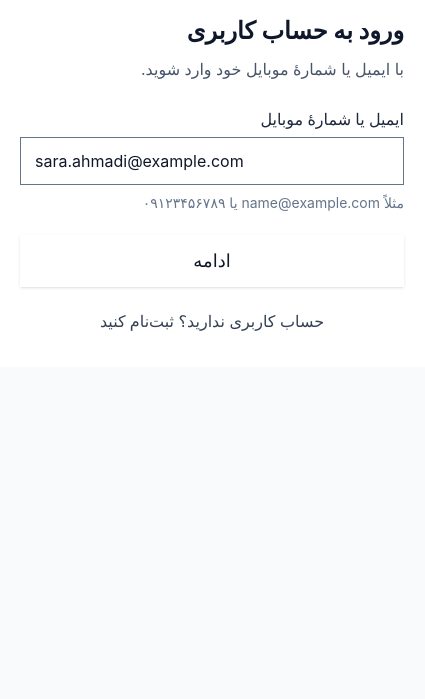
the one-time code step › a 503 auth_otp_send_failed shows its detail and lets the visitor try again at once
Click the button "ادامه" at coordinates (212, 261), box [20,235,404,287]
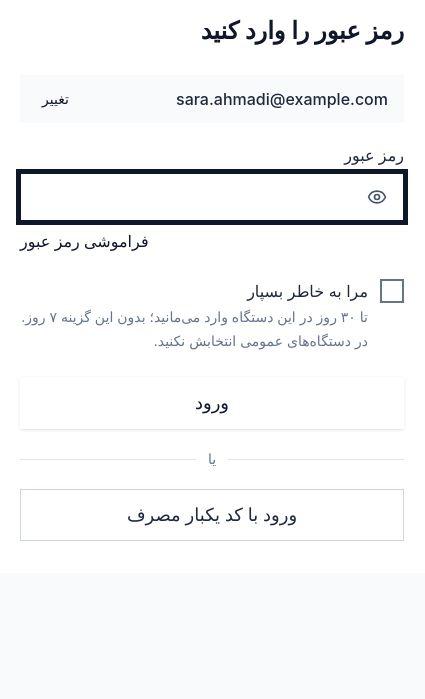
Click the button "ورود با کد یکبار مصرف" at coordinates (212, 515), box [20,489,404,541]
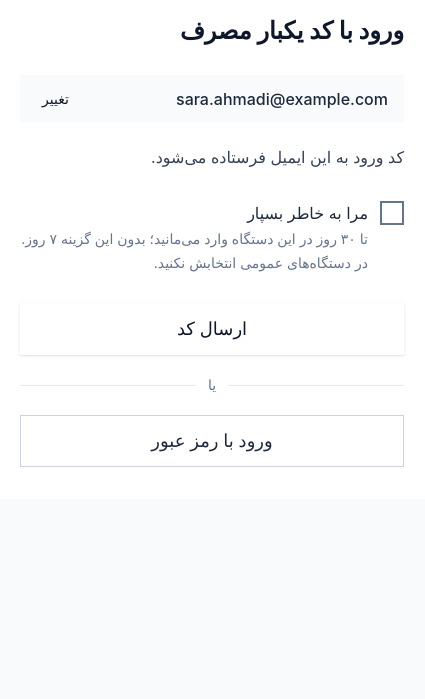
Result: the heading "ورود با کد یکبار مصرف" is shown at [180,16,404,45]
Click the button "ارسال کد" at coordinates (212, 329), box [20,303,404,355]
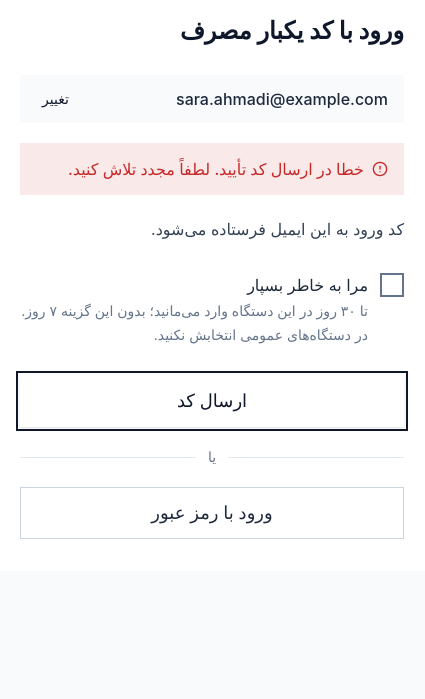
Result: the message reads "خطا در ارسال کد تأیید. لطفاً مجدد تلاش کنید." at [68,159,364,179]
Click the button "ارسال کد" at coordinates (212, 401), box [20,375,404,427]
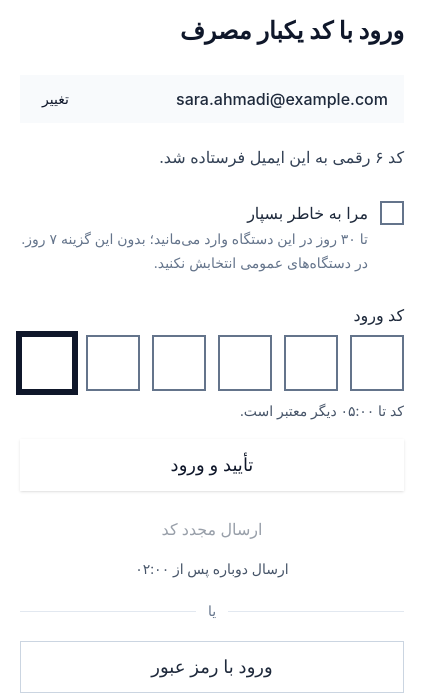
Result: the element named "کد ورود" is shown at [20,335,404,391]
Result: the message "خطا در ارسال کد تأیید. لطفاً مجدد تلاش کنید." is gone
